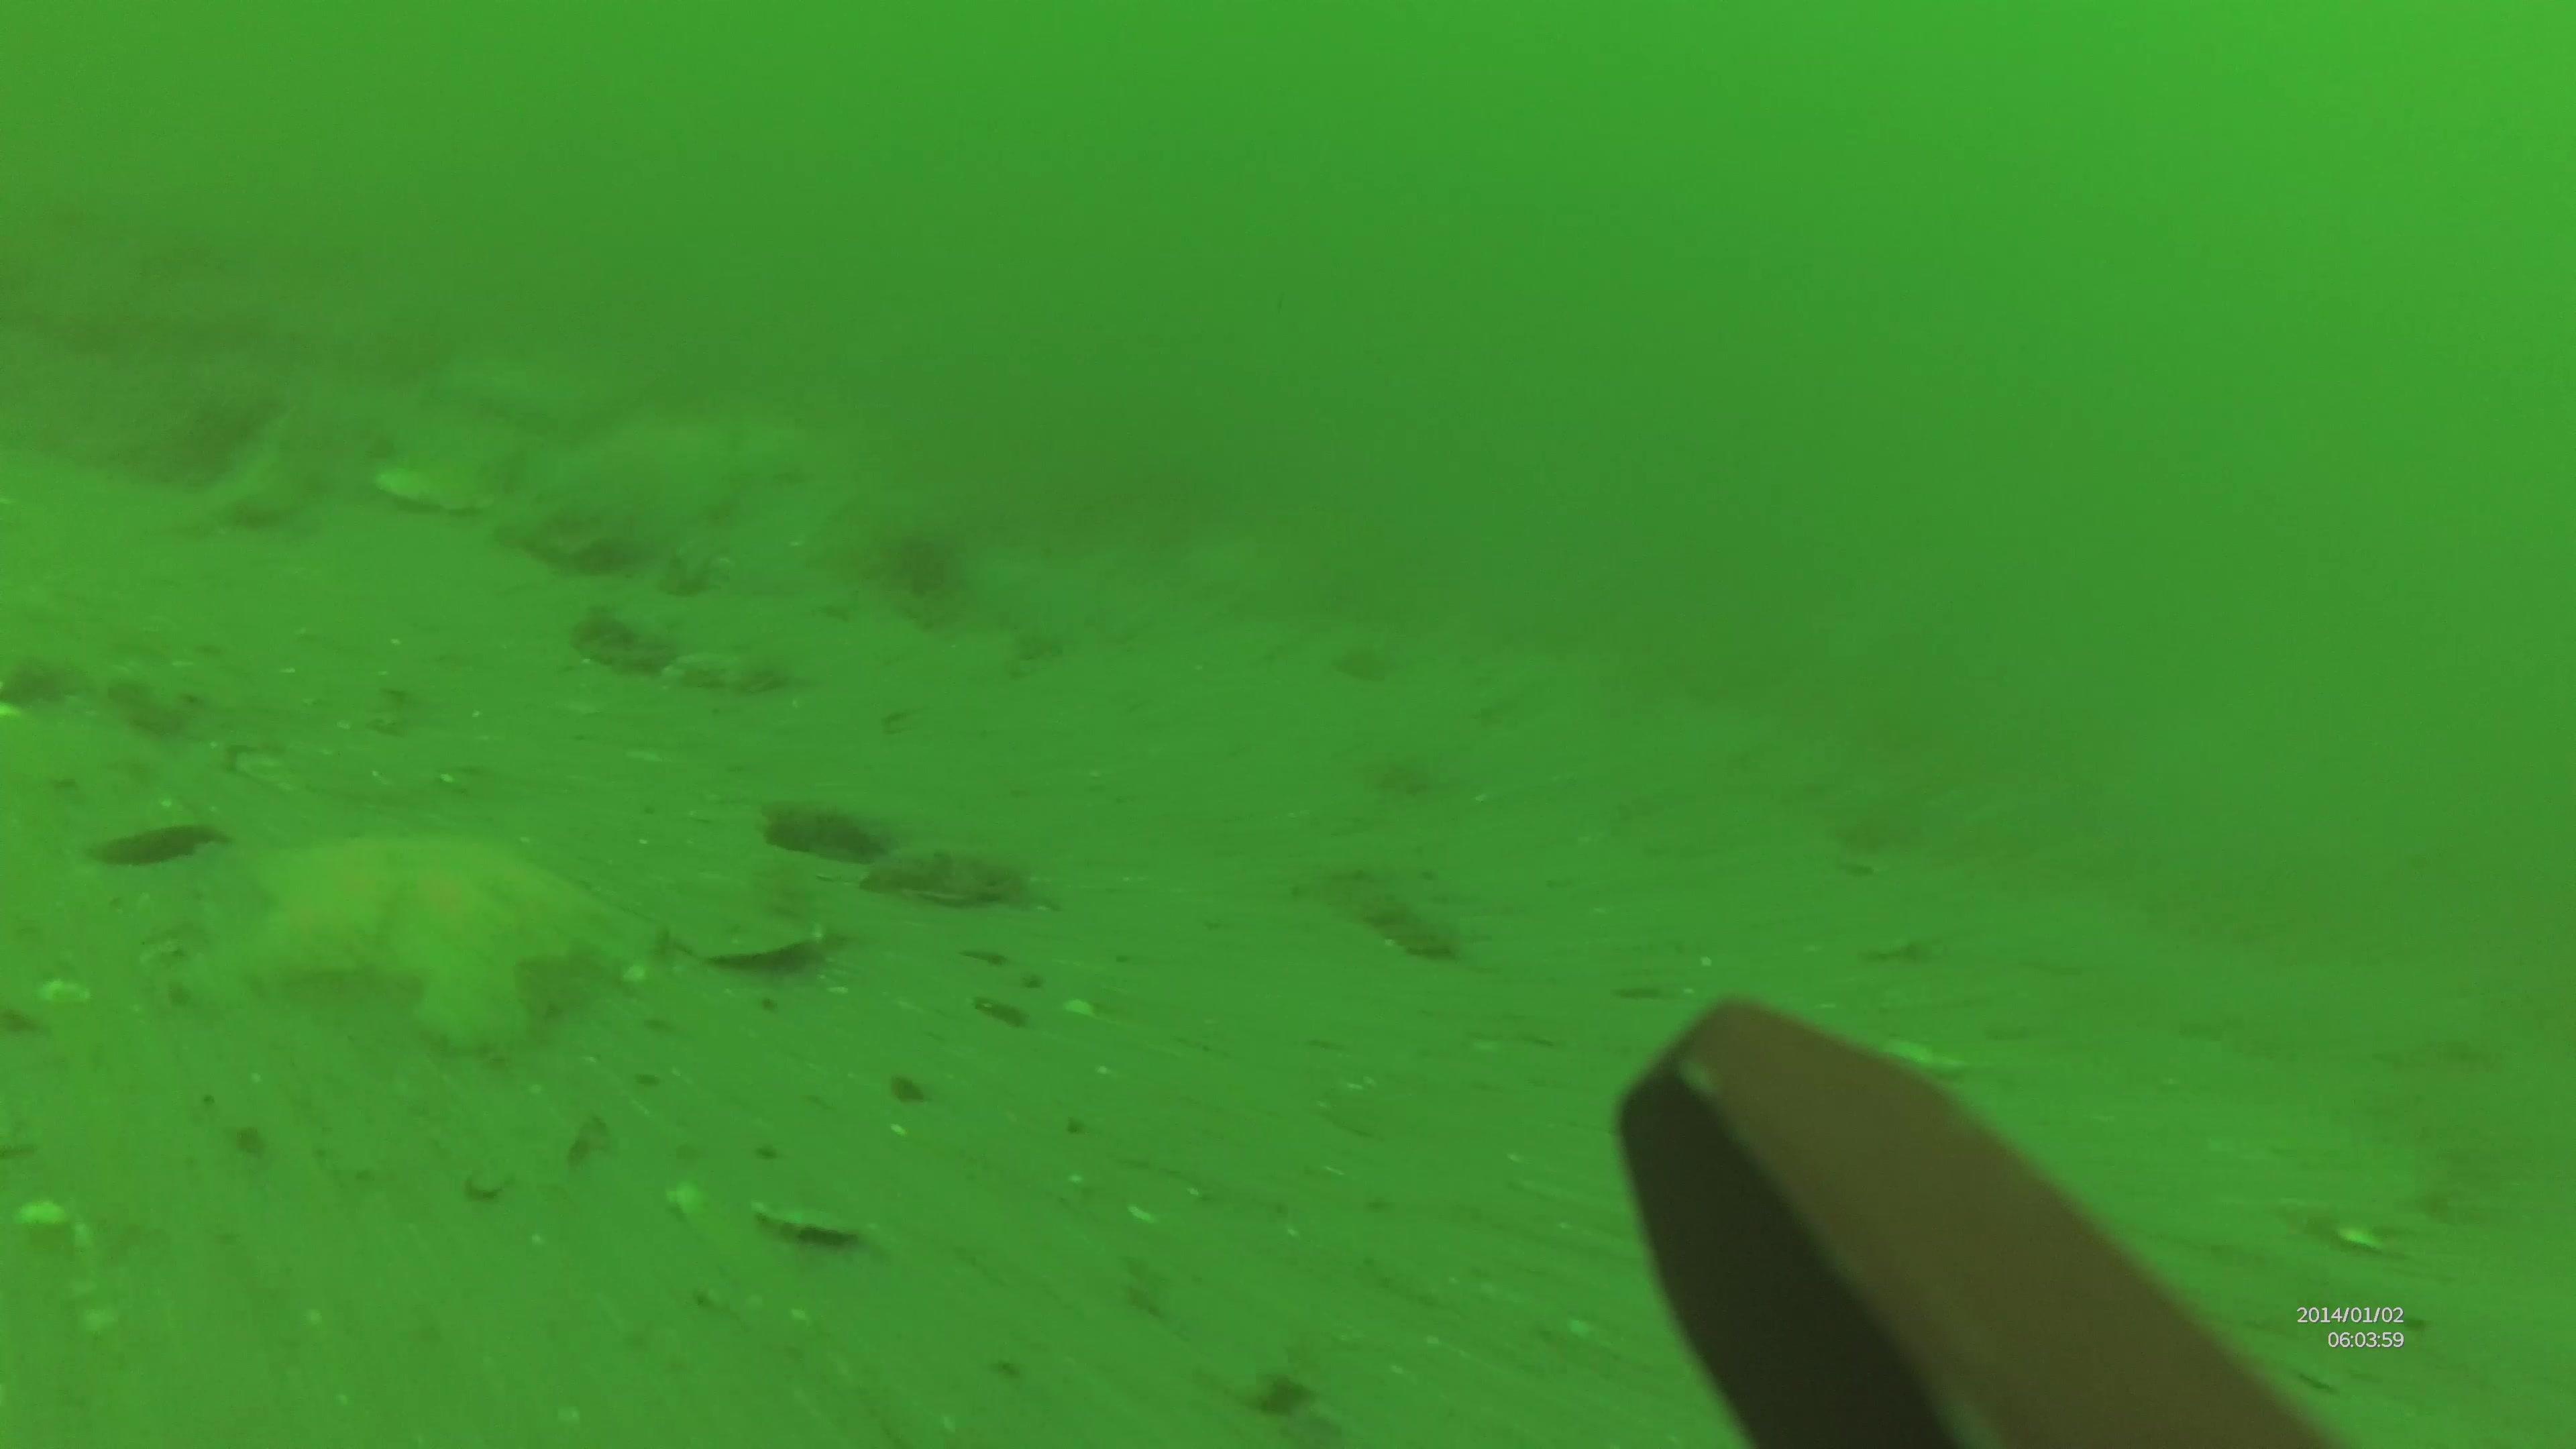starfish: (241, 839, 658, 1058)
